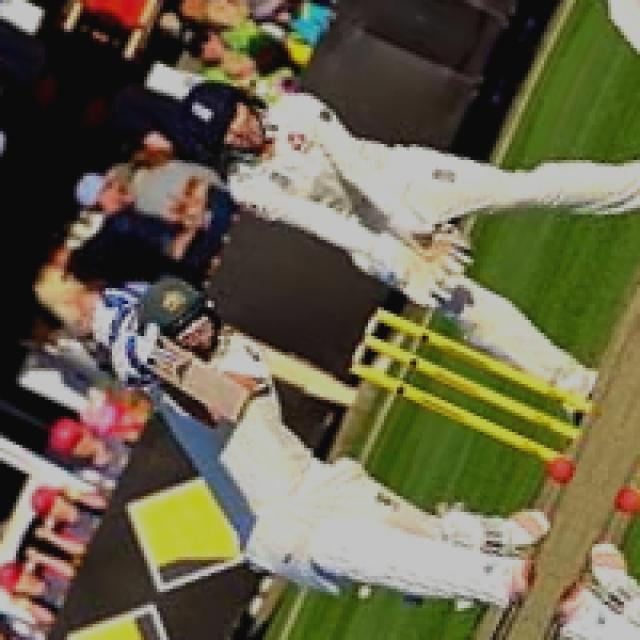bat: (100, 326, 258, 429)
toe: (234, 394, 255, 425)
